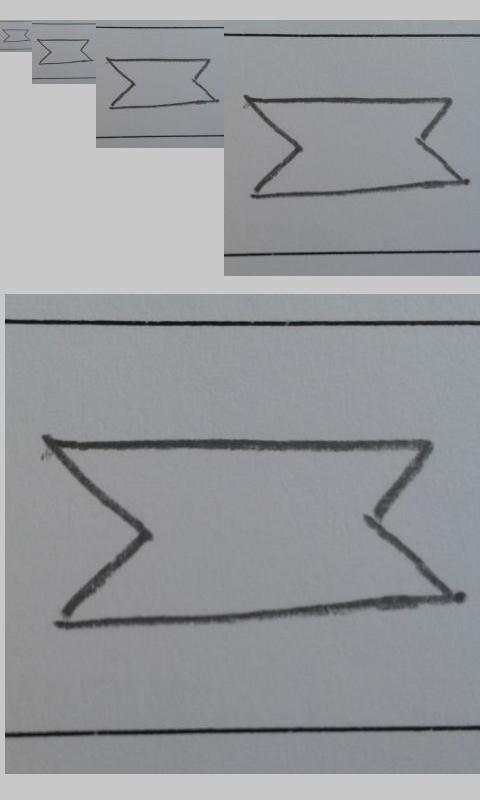edit_text: (48, 435, 454, 630), (245, 96, 462, 199), (104, 57, 217, 110), (36, 39, 93, 65), (2, 29, 30, 42)
